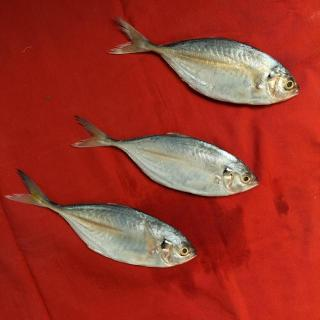Ikan: (7, 168, 202, 283), (107, 11, 305, 111), (69, 114, 265, 203)
